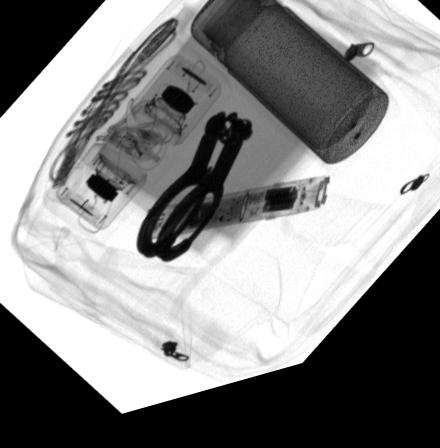Baton: (139, 193, 331, 250)
HandCuffs: (133, 123, 253, 275)
